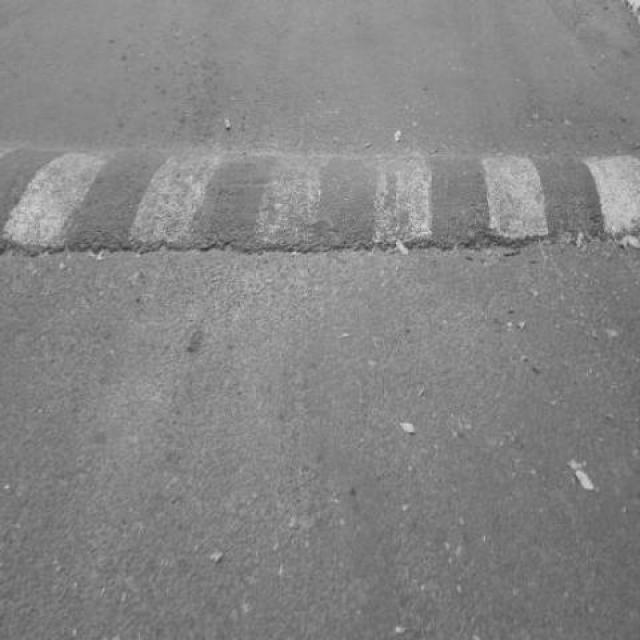Speed Bump: (0, 132, 639, 256)
